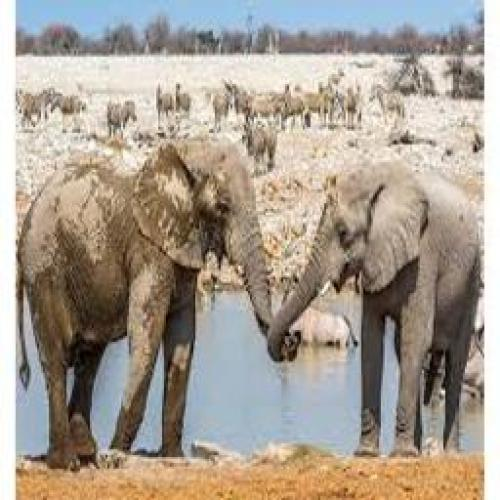african_elephant-endangered: (24, 131, 278, 470), (267, 159, 478, 458)
